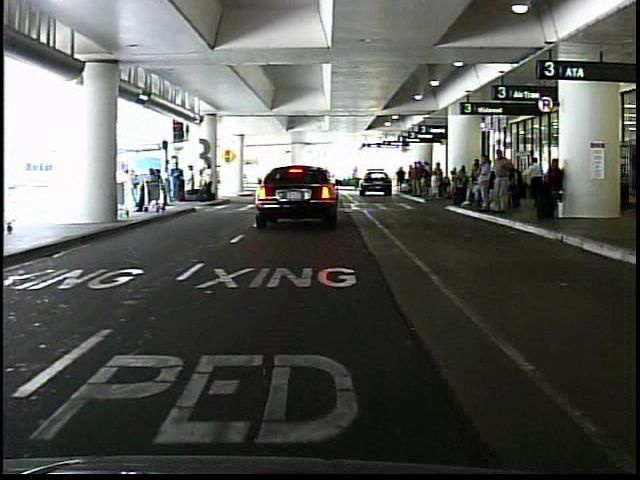person: (487, 143, 516, 219), (538, 152, 566, 225), (524, 154, 546, 207), (475, 151, 494, 210), (122, 163, 142, 218), (171, 155, 186, 203), (201, 158, 216, 199), (186, 161, 200, 201)
